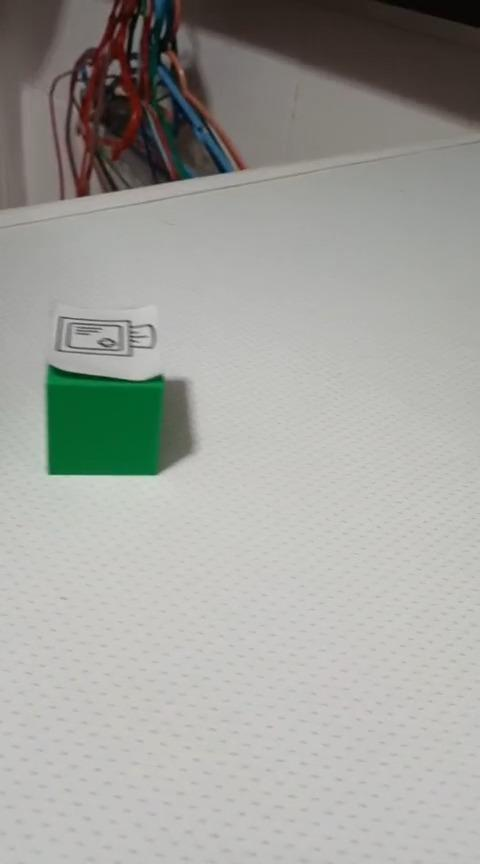Gauze: (43, 301, 166, 476)
